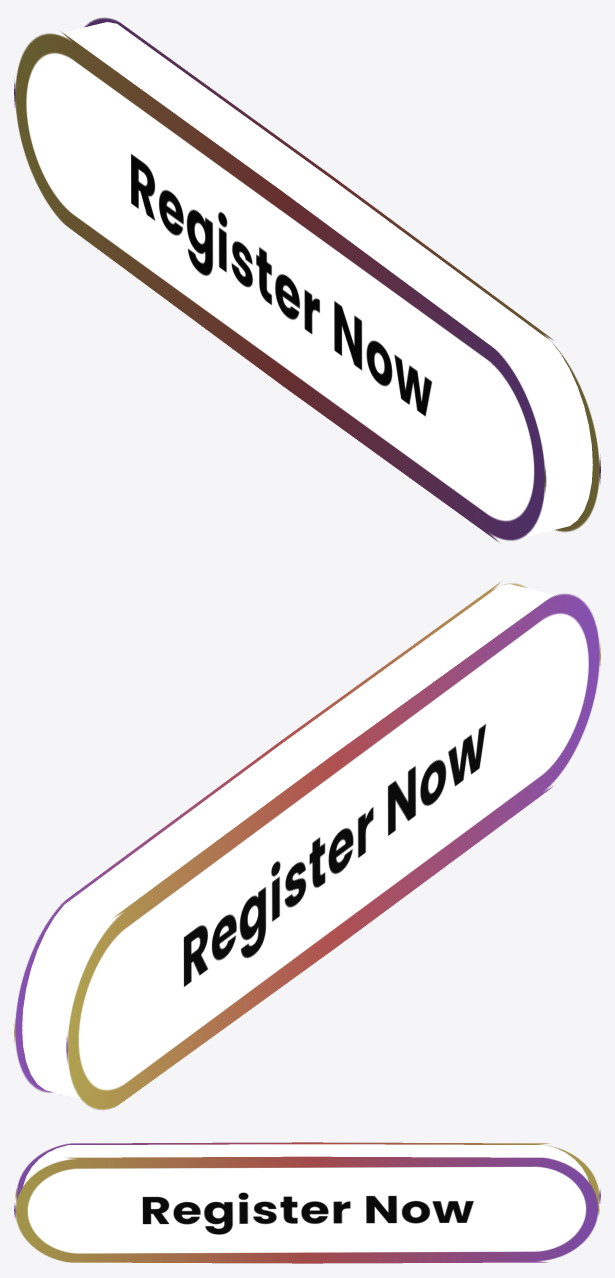
The model's file is register.glb.
3 views of the same model, one above another, from view 1: azimuth 30°, elevation 25°; view 2: azimuth 150°, elevation 25°; view 3: azimuth 270°, elevation 25° (orthographic). The views are drawn at different scales.
Visible parts, largest first — view 1: Cylinder.059, Cylinder.067, Cylinder.061; view 2: Cylinder.059, Cylinder.067, Cylinder.061; view 3: Cylinder.059, Cylinder.061, Cylinder.067.
Boxes of the visible parts, x1,y1,x2,y2 form: Cylinder.059: [26, 22, 592, 540]; Cylinder.067: [14, 31, 546, 542]; Cylinder.061: [84, 17, 600, 531]; Cylinder.059: [22, 584, 588, 1098]; Cylinder.067: [66, 593, 600, 1109]; Cylinder.061: [14, 581, 526, 1092]; Cylinder.059: [23, 1144, 588, 1260]; Cylinder.061: [14, 1156, 599, 1263]; Cylinder.067: [15, 1142, 600, 1204].
Size of the model in its own units: 0.2102 by 0.731 by 3.64.
Materials: 2 (1 with a texture image).
